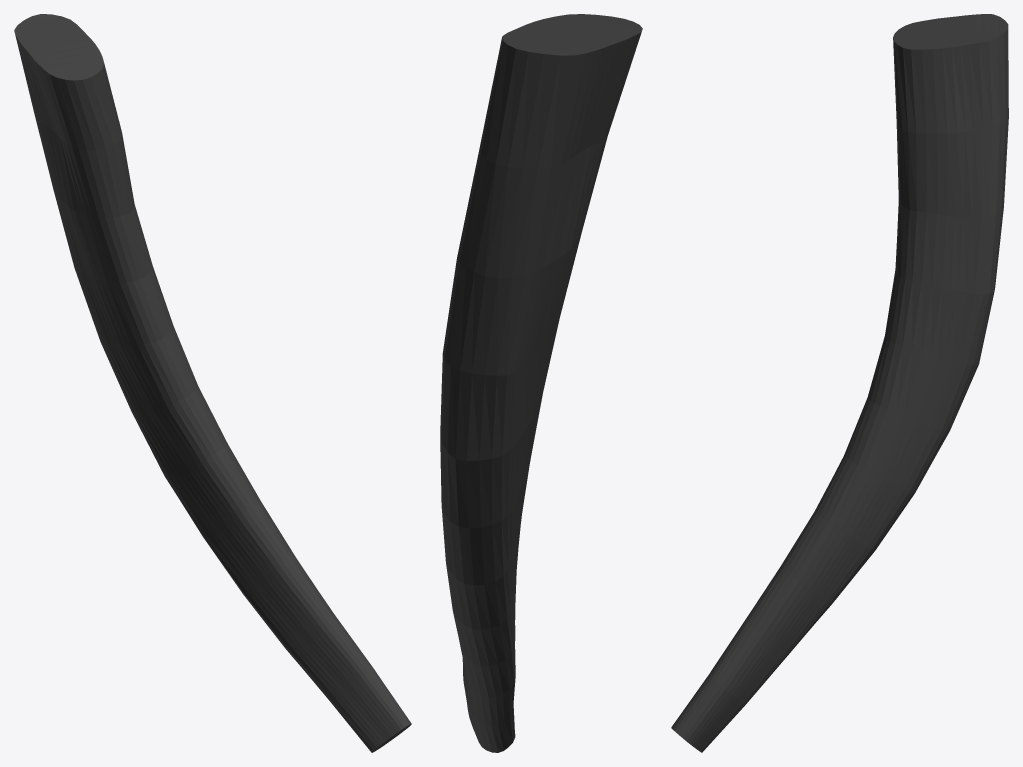
The model's file is N_9_glossopharnygeal_stylopharyngei.glb.
3 renders of one model, left to right at view 1: azimuth 30°, elevation 25°; view 2: azimuth 150°, elevation 25°; view 3: azimuth 270°, elevation 25°, orthographic. The views are drawn at different scales.
Parts seen in each view (by area): view 1: N_9_glossopharnygeal_stylopharyngei; view 2: N_9_glossopharnygeal_stylopharyngei; view 3: N_9_glossopharnygeal_stylopharyngei.
Part boxes in pixels (x1,y1,x2,y2): N_9_glossopharnygeal_stylopharyngei: [14, 14, 411, 752]; N_9_glossopharnygeal_stylopharyngei: [440, 14, 642, 752]; N_9_glossopharnygeal_stylopharyngei: [671, 14, 1008, 752].
Size of the model in its own units: 0.00058 by 0.00151 by 0.000721.
Materials: 1 (1 with a texture image).
